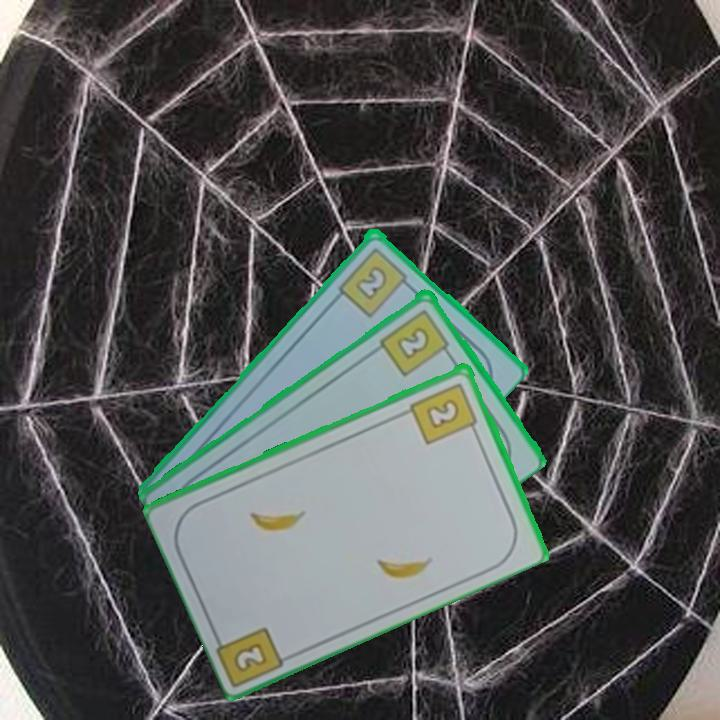2b: (335, 243, 416, 320), (376, 305, 455, 379), (407, 378, 481, 447), (230, 638, 271, 675)
